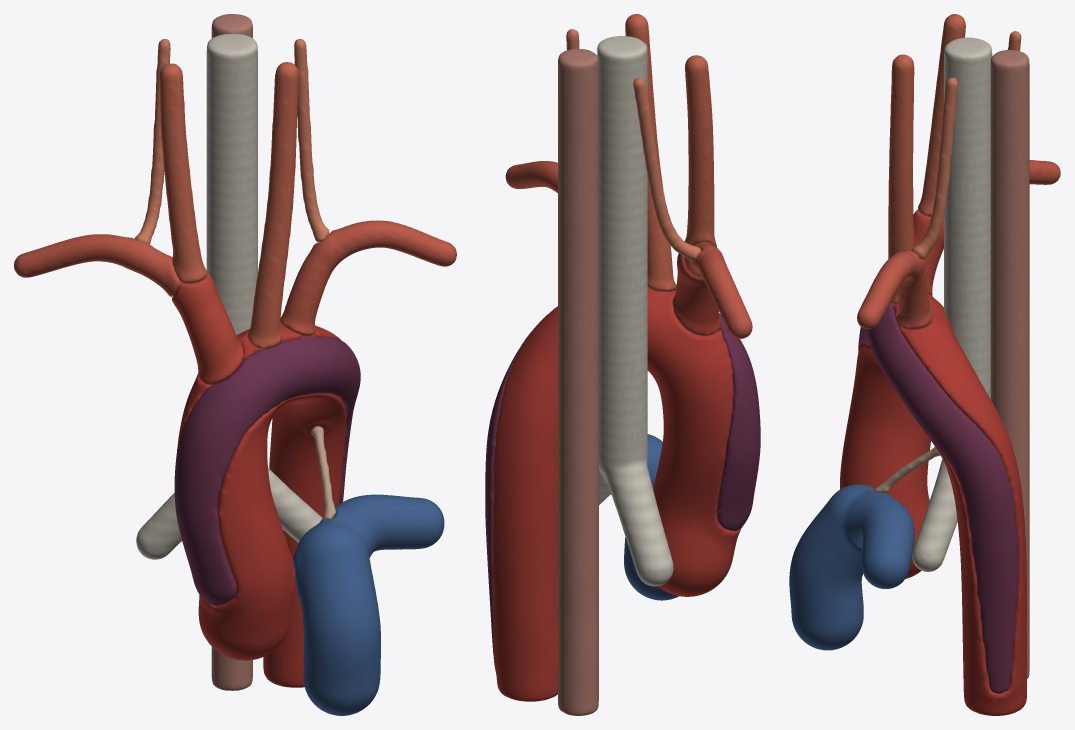
Rendered from aorta_dissection_a.glb.
3 renders of one model, left to right at view 1: azimuth 30°, elevation 25°; view 2: azimuth 150°, elevation 25°; view 3: azimuth 270°, elevation 25°, orthographic. The views are drawn at different scales.
Parts seen in each view (by area): view 1: aorta, pulmonary_trunk, false_lumen, trachea, left_common_carotid, left_subclavian, right_common_carotid, right_subclavian, brachiocephalic_trunk, left_vertebral, oesophagus, right_vertebral (+1 smaller); view 2: aorta, oesophagus, trachea, false_lumen, right_common_carotid, left_common_carotid, right_subclavian, right_vertebral, brachiocephalic_trunk, pulmonary_trunk, left_subclavian; view 3: aorta, trachea, oesophagus, false_lumen, pulmonary_trunk, left_common_carotid, left_subclavian, right_common_carotid, left_vertebral, brachiocephalic_trunk, right_subclavian, ligamentum_arteriosum.
Boxes of the visible parts, x1=… form: aorta: x1=177, y1=322, x2=346, y2=687; pulmonary_trunk: x1=293, y1=494, x2=444, y2=715; false_lumen: x1=174, y1=336, x2=360, y2=606; trachea: x1=136, y1=33, x2=322, y2=559; left_common_carotid: x1=247, y1=62, x2=298, y2=349; left_subclavian: x1=280, y1=220, x2=456, y2=336; right_common_carotid: x1=159, y1=63, x2=207, y2=283; right_subclavian: x1=14, y1=234, x2=187, y2=296; brachiocephalic_trunk: x1=172, y1=273, x2=243, y2=384; left_vertebral: x1=294, y1=39, x2=329, y2=242; oesophagus: x1=211, y1=14, x2=252, y2=690; right_vertebral: x1=134, y1=39, x2=170, y2=244; aorta: x1=492, y1=288, x2=741, y2=701; oesophagus: x1=558, y1=49, x2=598, y2=715; trachea: x1=597, y1=36, x2=673, y2=586; false_lumen: x1=485, y1=284, x2=760, y2=654; right_common_carotid: x1=684, y1=55, x2=716, y2=247; left_common_carotid: x1=625, y1=14, x2=676, y2=291; right_subclavian: x1=684, y1=242, x2=752, y2=338; right_vertebral: x1=633, y1=77, x2=701, y2=261; brachiocephalic_trunk: x1=672, y1=247, x2=720, y2=335; pulmonary_trunk: x1=611, y1=434, x2=678, y2=600; left_subclavian: x1=505, y1=161, x2=557, y2=192; aorta: x1=840, y1=293, x2=1026, y2=715; trachea: x1=912, y1=37, x2=992, y2=571; oesophagus: x1=990, y1=50, x2=1029, y2=678; false_lumen: x1=858, y1=303, x2=1018, y2=693; pulmonary_trunk: x1=789, y1=484, x2=914, y2=650; left_common_carotid: x1=888, y1=54, x2=914, y2=305; left_subclavian: x1=857, y1=250, x2=932, y2=329; right_common_carotid: x1=918, y1=14, x2=965, y2=217; left_vertebral: x1=911, y1=77, x2=957, y2=259; brachiocephalic_trunk: x1=913, y1=210, x2=943, y2=295; right_subclavian: x1=1029, y1=160, x2=1060, y2=184; ligamentum_arteriosum: x1=873, y1=447, x2=940, y2=493.
Bounding box in the file's own units: 12.31 × 22.78 × 8.97.
